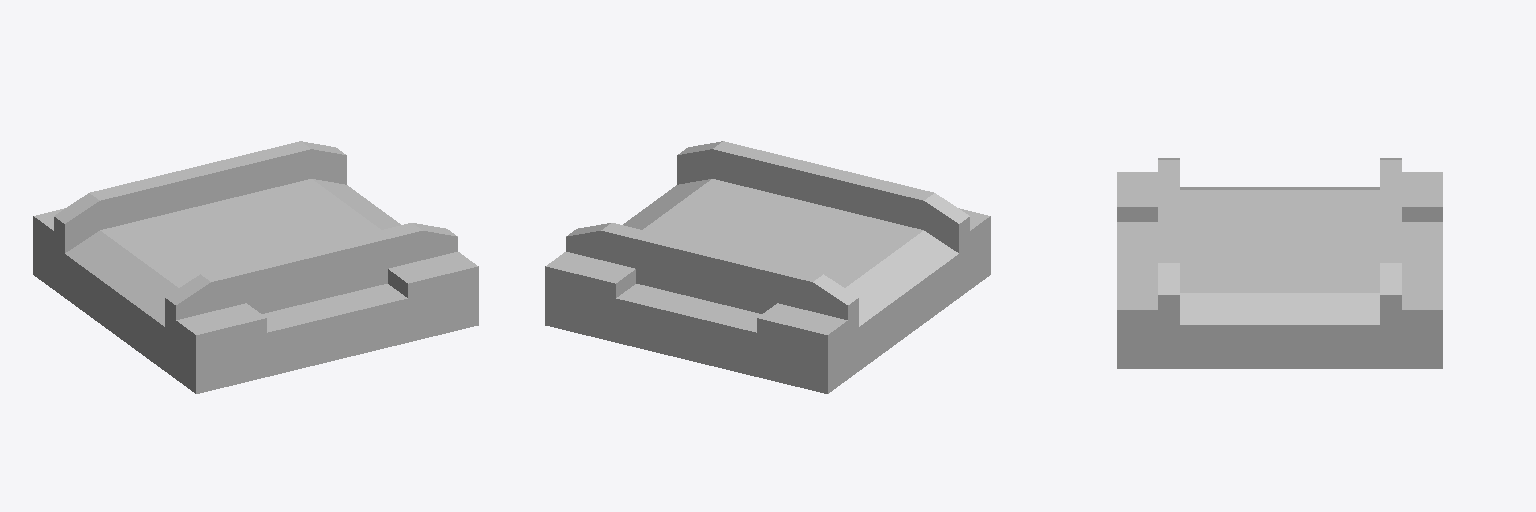
Rendered from BridgeLR.obj.
3 renders of one model, left to right at view 1: azimuth 30°, elevation 25°; view 2: azimuth 150°, elevation 25°; view 3: azimuth 270°, elevation 25°, orthographic.
Visible parts, largest first — view 1: BridgeLR; view 2: BridgeLR; view 3: BridgeLR.
Part boxes in pixels (left/top/right/bottom): BridgeLR: left=33, top=141, right=478, bottom=393; BridgeLR: left=545, top=141, right=990, bottom=393; BridgeLR: left=1117, top=158, right=1442, bottom=368.
Size of the model in its own units: 1 by 0.3 by 1.